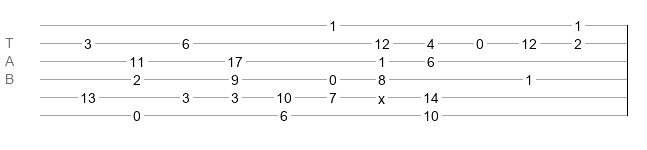0: (133, 108, 141, 118), (329, 72, 337, 82), (476, 36, 484, 46)
1: (329, 18, 337, 28), (378, 54, 386, 64), (525, 72, 533, 82), (574, 18, 582, 28)
10: (276, 90, 292, 100), (423, 108, 439, 118)
11: (129, 54, 145, 64)
12: (374, 36, 390, 46), (521, 36, 537, 46)
13: (80, 90, 96, 100)
14: (423, 90, 439, 100)
17: (227, 54, 243, 64)
2: (133, 72, 141, 82), (574, 36, 582, 46)
3: (84, 36, 92, 46), (182, 90, 190, 100), (231, 90, 239, 100)
4: (427, 36, 435, 46)
6: (182, 36, 190, 46), (280, 108, 288, 118), (427, 54, 435, 64)
7: (329, 90, 337, 100)
8: (378, 72, 386, 82)
9: (231, 72, 239, 82)
x: (378, 91, 385, 99)
